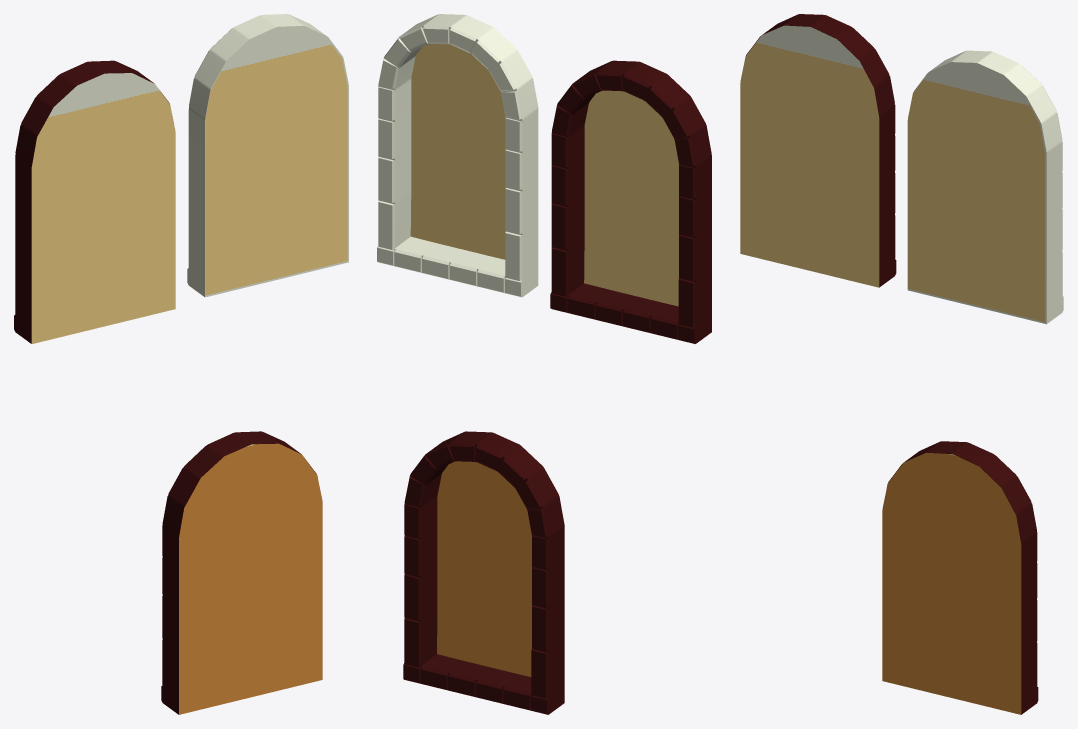
Rendered from fenetres_set_02.fbx.
3 renders of one model, left to right at view 1: azimuth 30°, elevation 25°; view 2: azimuth 150°, elevation 25°; view 3: azimuth 330°, elevation 25°, orthographic. The views are drawn at different scales.
Visible parts, largest first — view 1: polySurface10, polySurface14, polySurface12; view 2: polySurface12, polySurface10, polySurface14; view 3: polySurface10, polySurface14, polySurface12.
Boxes of the visible parts, box(x1,y1,x2,y2) form: polySurface10: box(161, 431, 322, 714); polySurface14: box(14, 60, 175, 343); polySurface12: box(187, 14, 348, 297); polySurface12: box(377, 14, 538, 297); polySurface10: box(403, 431, 564, 714); polySurface14: box(550, 60, 711, 343); polySurface10: box(882, 441, 1038, 714); polySurface14: box(740, 14, 896, 287); polySurface12: box(907, 50, 1063, 324).
Size of the model in its own units: 4.49 by 8.98 by 0.4337.
1 material, 1 textured.
